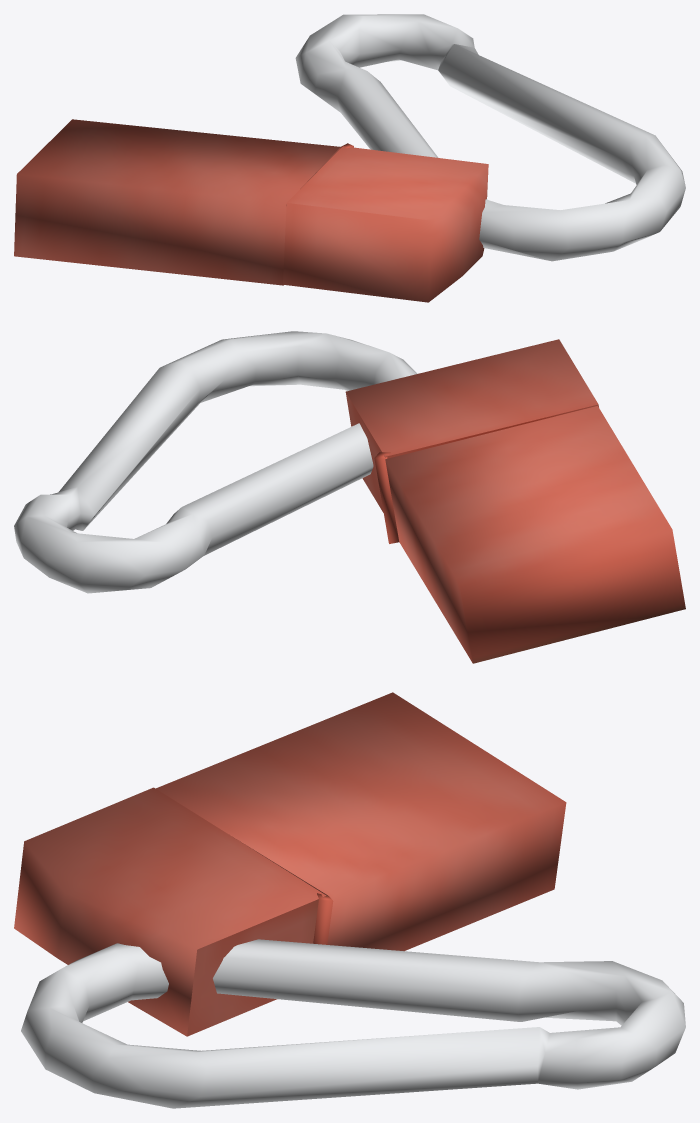
Rendered from WorldItem-AZCarabiner_Lighter.fbx.
The picture shows the model from 3 angles, top to bottom: view 1: azimuth 30°, elevation 25°; view 2: azimuth 150°, elevation 25°; view 3: azimuth 270°, elevation 25°; orthographic projection. The views are drawn at different scales.
Visible parts, largest first — view 1: Carabiner-Zippo; view 2: Carabiner-Zippo; view 3: Carabiner-Zippo.
Part boxes in pixels (left/top/right/bottom): Carabiner-Zippo: left=14, top=14, right=685, bottom=302; Carabiner-Zippo: left=14, top=331, right=685, bottom=663; Carabiner-Zippo: left=14, top=692, right=685, bottom=1108.
Size of the model in its own units: 0.1717 by 0.0319 by 0.1453.
